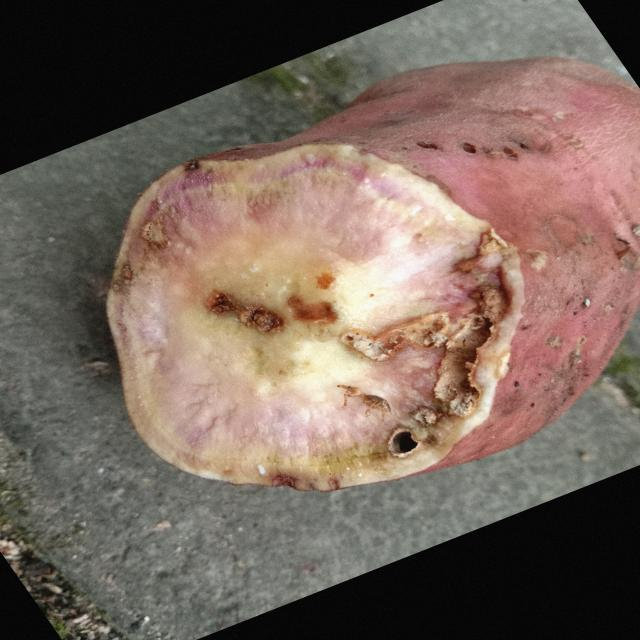Sick Sweet Potato_Tuber Rot: (108, 144, 523, 491)
